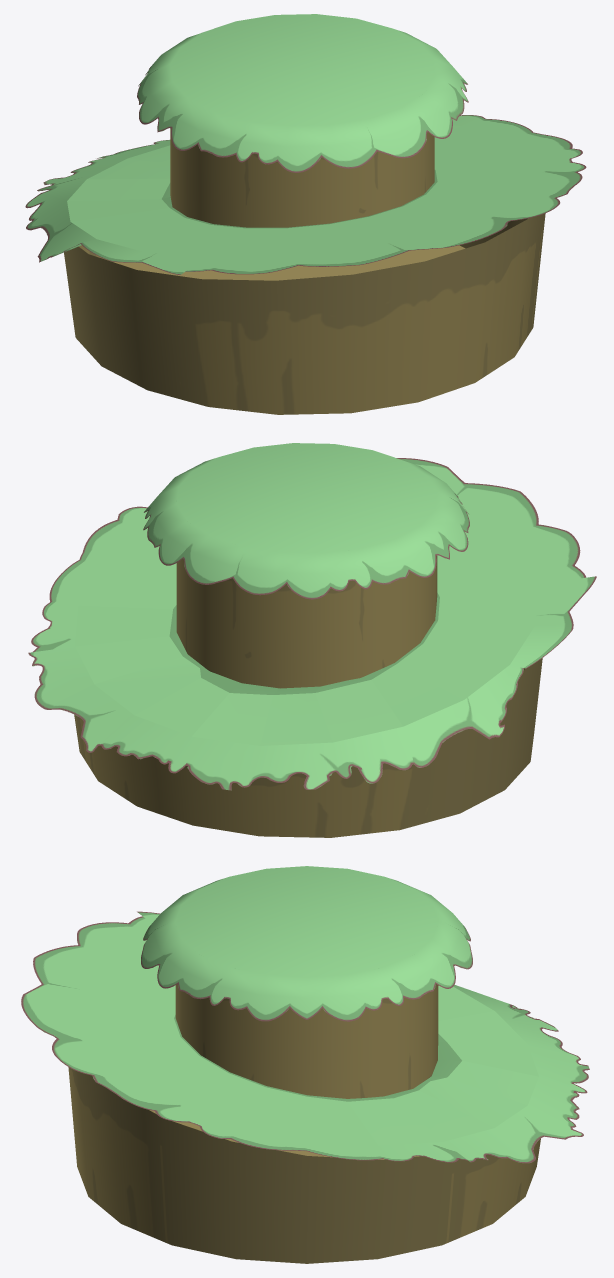
File: Mesh_Adventure_Catch_Stage_6_SM.fbx
3 views of the same model, one above another, from view 1: azimuth 30°, elevation 25°; view 2: azimuth 150°, elevation 25°; view 3: azimuth 270°, elevation 25° (orthographic).
Parts seen in each view (by area): view 1: Mesh_Adventure_Catch_Stage_6; view 2: Mesh_Adventure_Catch_Stage_6; view 3: Mesh_Adventure_Catch_Stage_6.
Boxes of the visible parts, x1,y1,x2,y2 form: Mesh_Adventure_Catch_Stage_6: (25, 14, 586, 414); Mesh_Adventure_Catch_Stage_6: (28, 443, 596, 837); Mesh_Adventure_Catch_Stage_6: (21, 866, 589, 1263).
Bounding box in the file's own units: 207 × 101 × 219.
